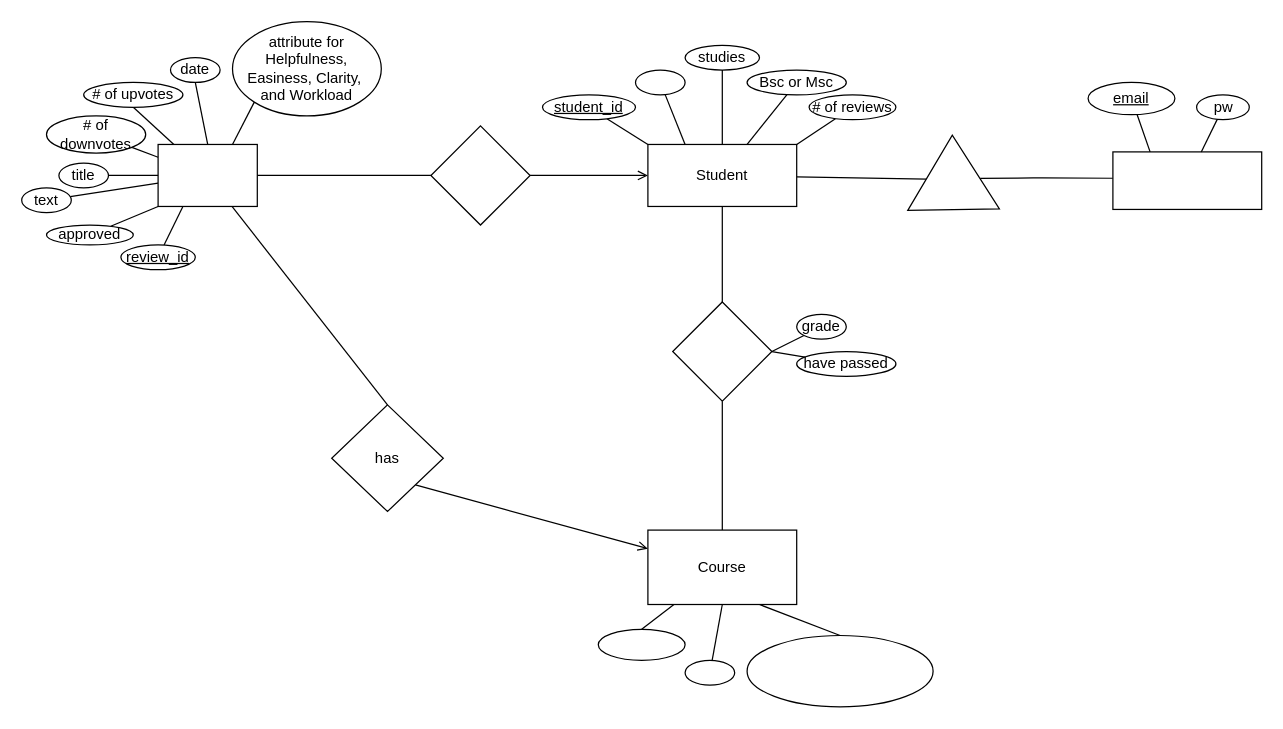
Image size: 1283x729. Some labels were removed from this diagram. Each missing label, with the centre of its shape:
"attended" goes at pixel 721 351.
"course_id" goes at pixel 641 644.
"IS A" goes at pixel 952 171.
"name" goes at pixel 659 82.
"Refer to README.md for the rest of the attributes" goes at pixel 839 670.
"Review" goes at pixel 207 174.
"User" goes at pixel 1187 180.
"writes" goes at pixel 480 175.
"year" goes at pixel 709 672.
